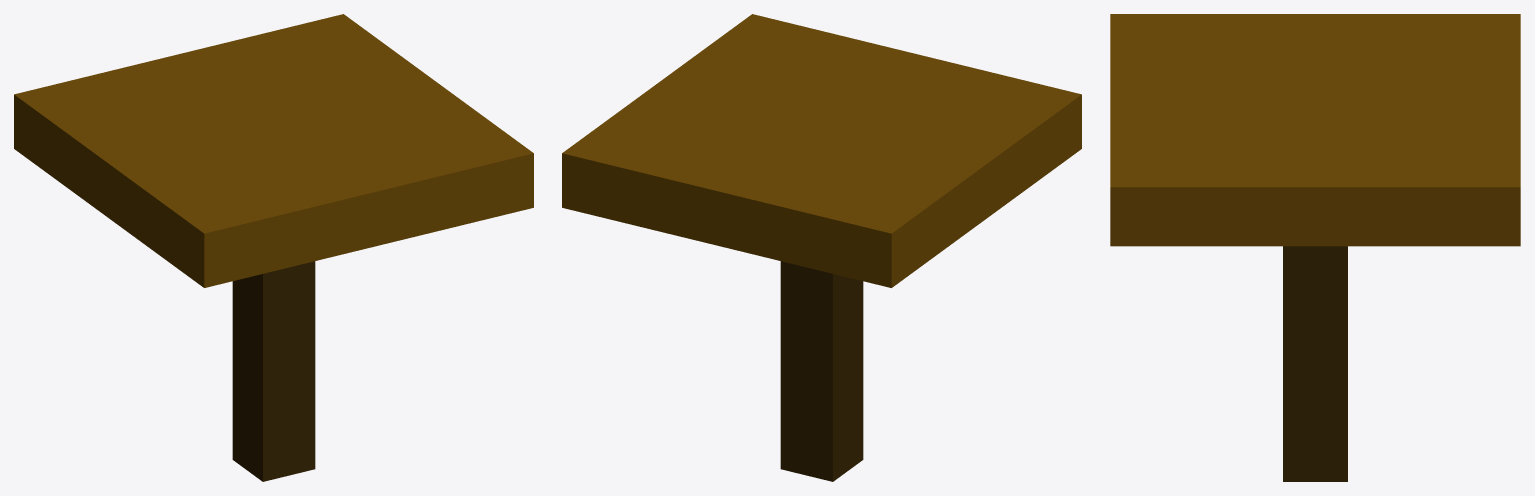
File: Enemy Field.fbx
3 views of the same model, side by side, from view 1: azimuth 30°, elevation 25°; view 2: azimuth 150°, elevation 25°; view 3: azimuth 270°, elevation 25° (orthographic). The views are drawn at different scales.
Visible parts, largest first — view 1: Enemy Field; view 2: Enemy Field; view 3: Enemy Field.
Part boxes in pixels (left/top/right/bottom): Enemy Field: left=14, top=14, right=533, bottom=481; Enemy Field: left=562, top=14, right=1081, bottom=481; Enemy Field: left=1110, top=14, right=1520, bottom=481.
Bounding box in the file's own units: 475 × 469 × 475.
